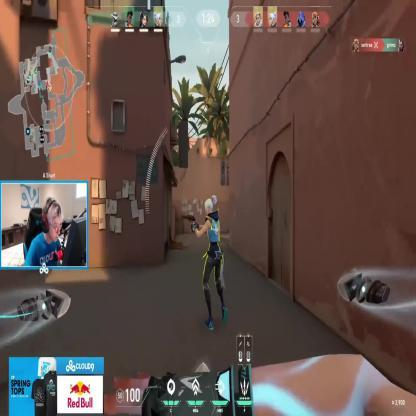enemy: (192, 196, 228, 330)
enemy_head: (204, 196, 217, 216)
